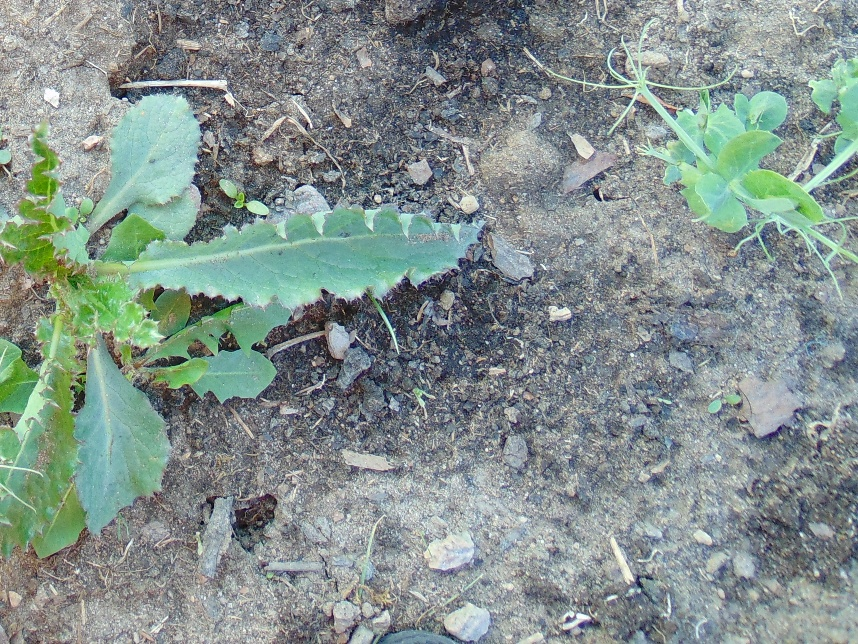crop: (612, 51, 858, 278)
weed: (1, 96, 297, 550), (1, 200, 488, 310)
